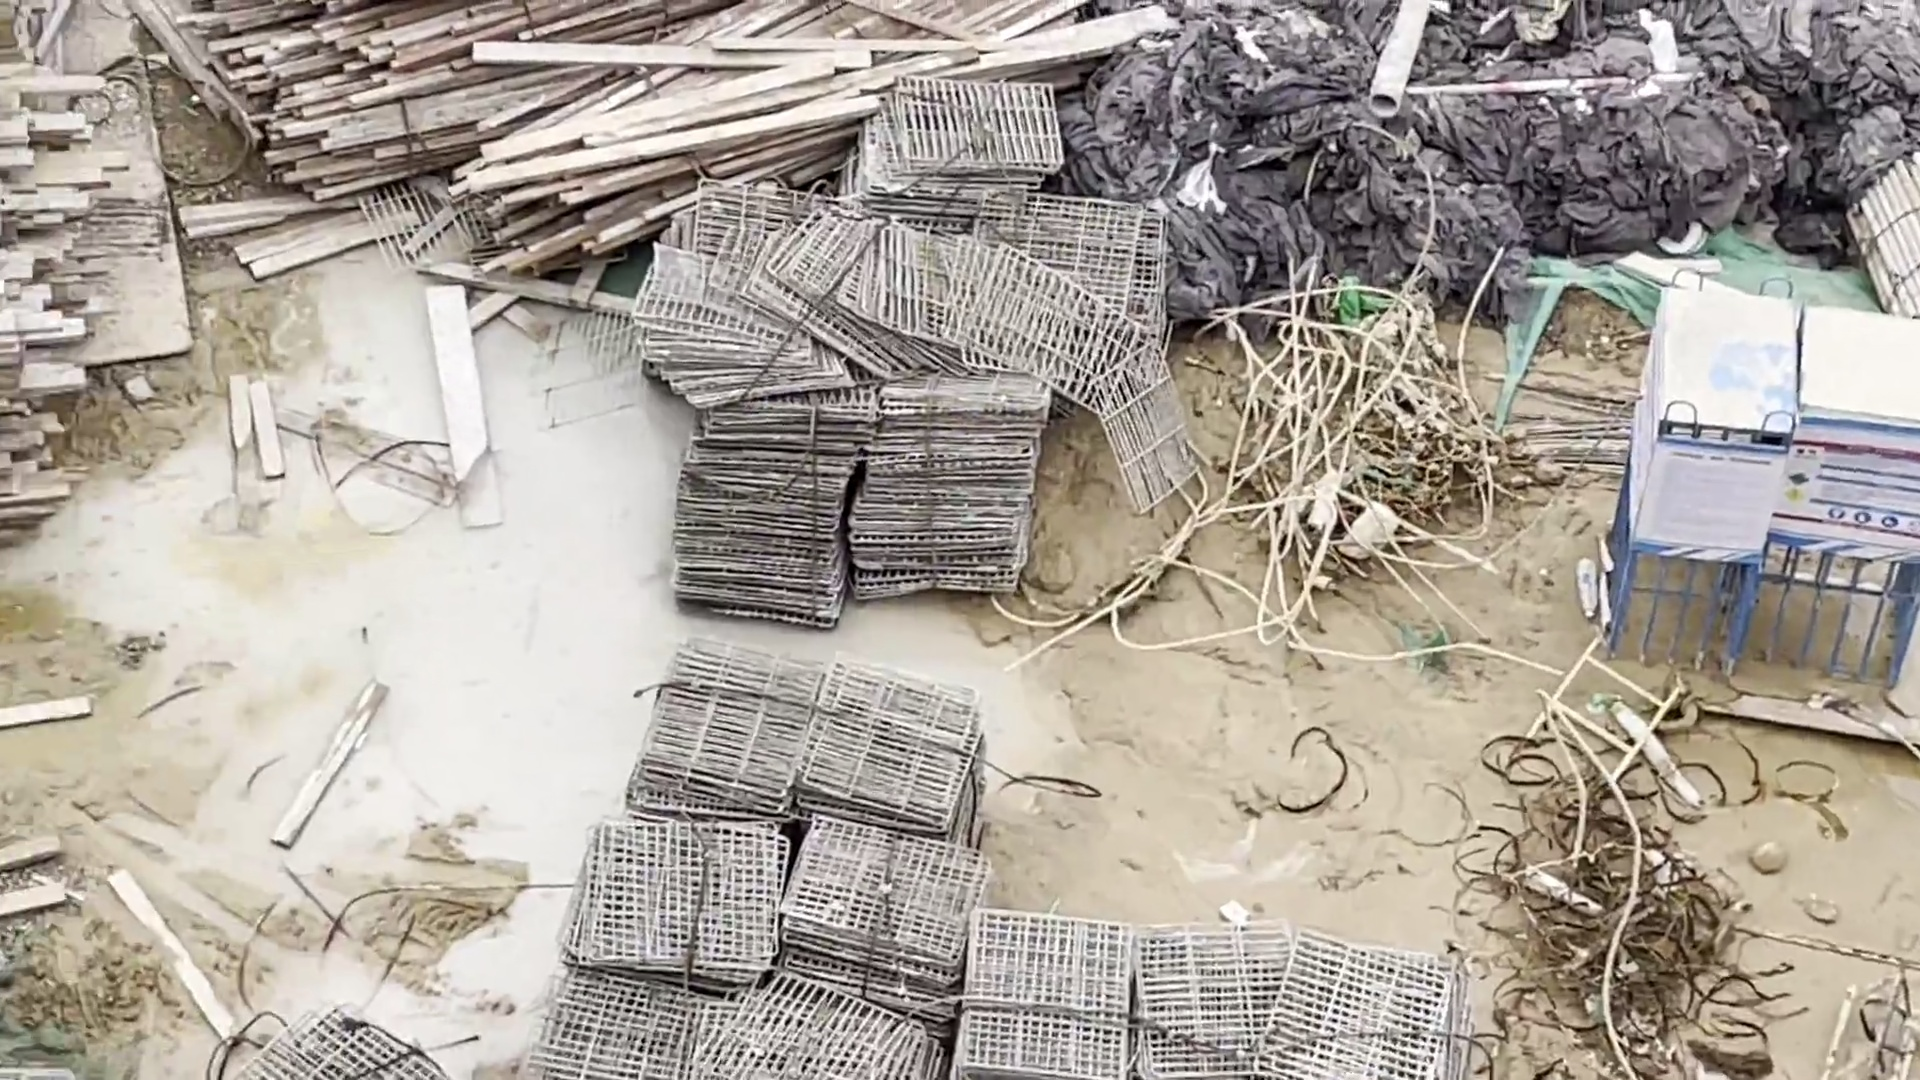wood: (187, 1, 1170, 251)
